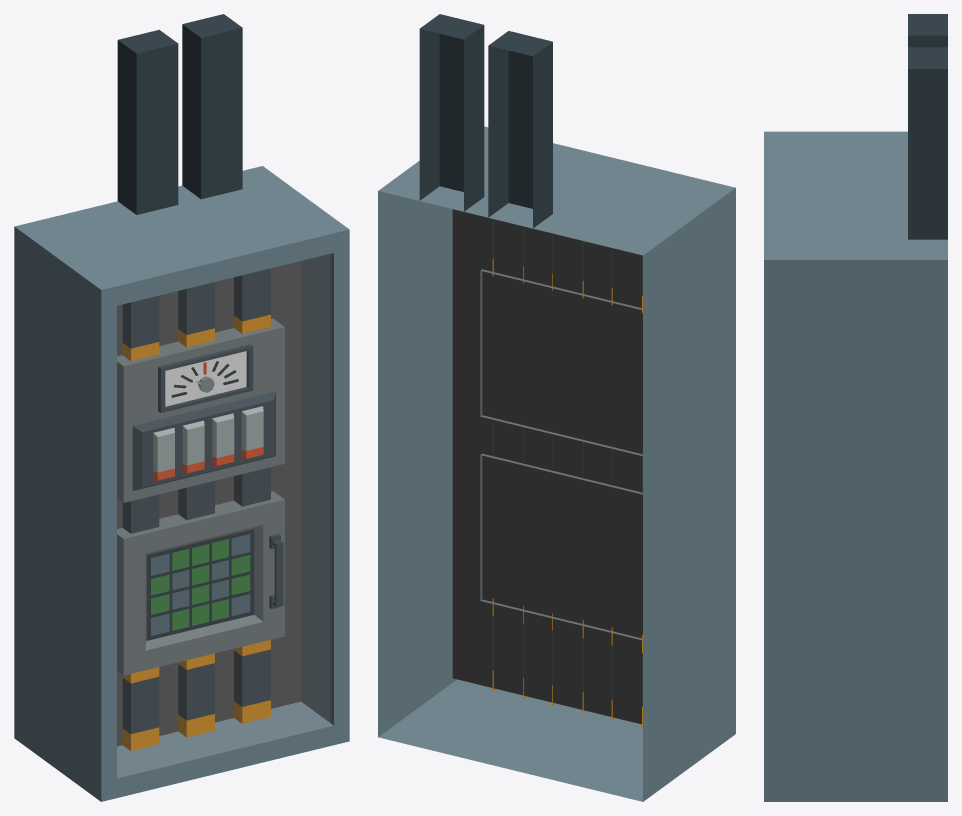
The model's file is Power_Station_02_LV3.fbx.
3 views of the same model, side by side, from view 1: azimuth 30°, elevation 25°; view 2: azimuth 150°, elevation 25°; view 3: azimuth 270°, elevation 25° (orthographic). The views are drawn at different scales.
Parts seen in each view (by area): view 1: Power_Station_02_LV3; view 2: Power_Station_02_LV3; view 3: Power_Station_02_LV3.
Part boxes in pixels (x1,y1,x2,y2): Power_Station_02_LV3: (14, 14, 349, 801); Power_Station_02_LV3: (378, 14, 735, 801); Power_Station_02_LV3: (764, 14, 947, 801).
Size of the model in its own units: 143 by 370 by 86.44.
